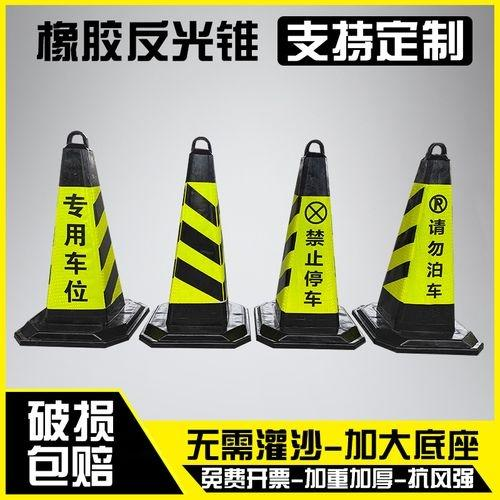cone_barrel: (18, 135, 135, 340), (354, 145, 473, 340), (150, 139, 242, 341), (263, 145, 351, 340)
